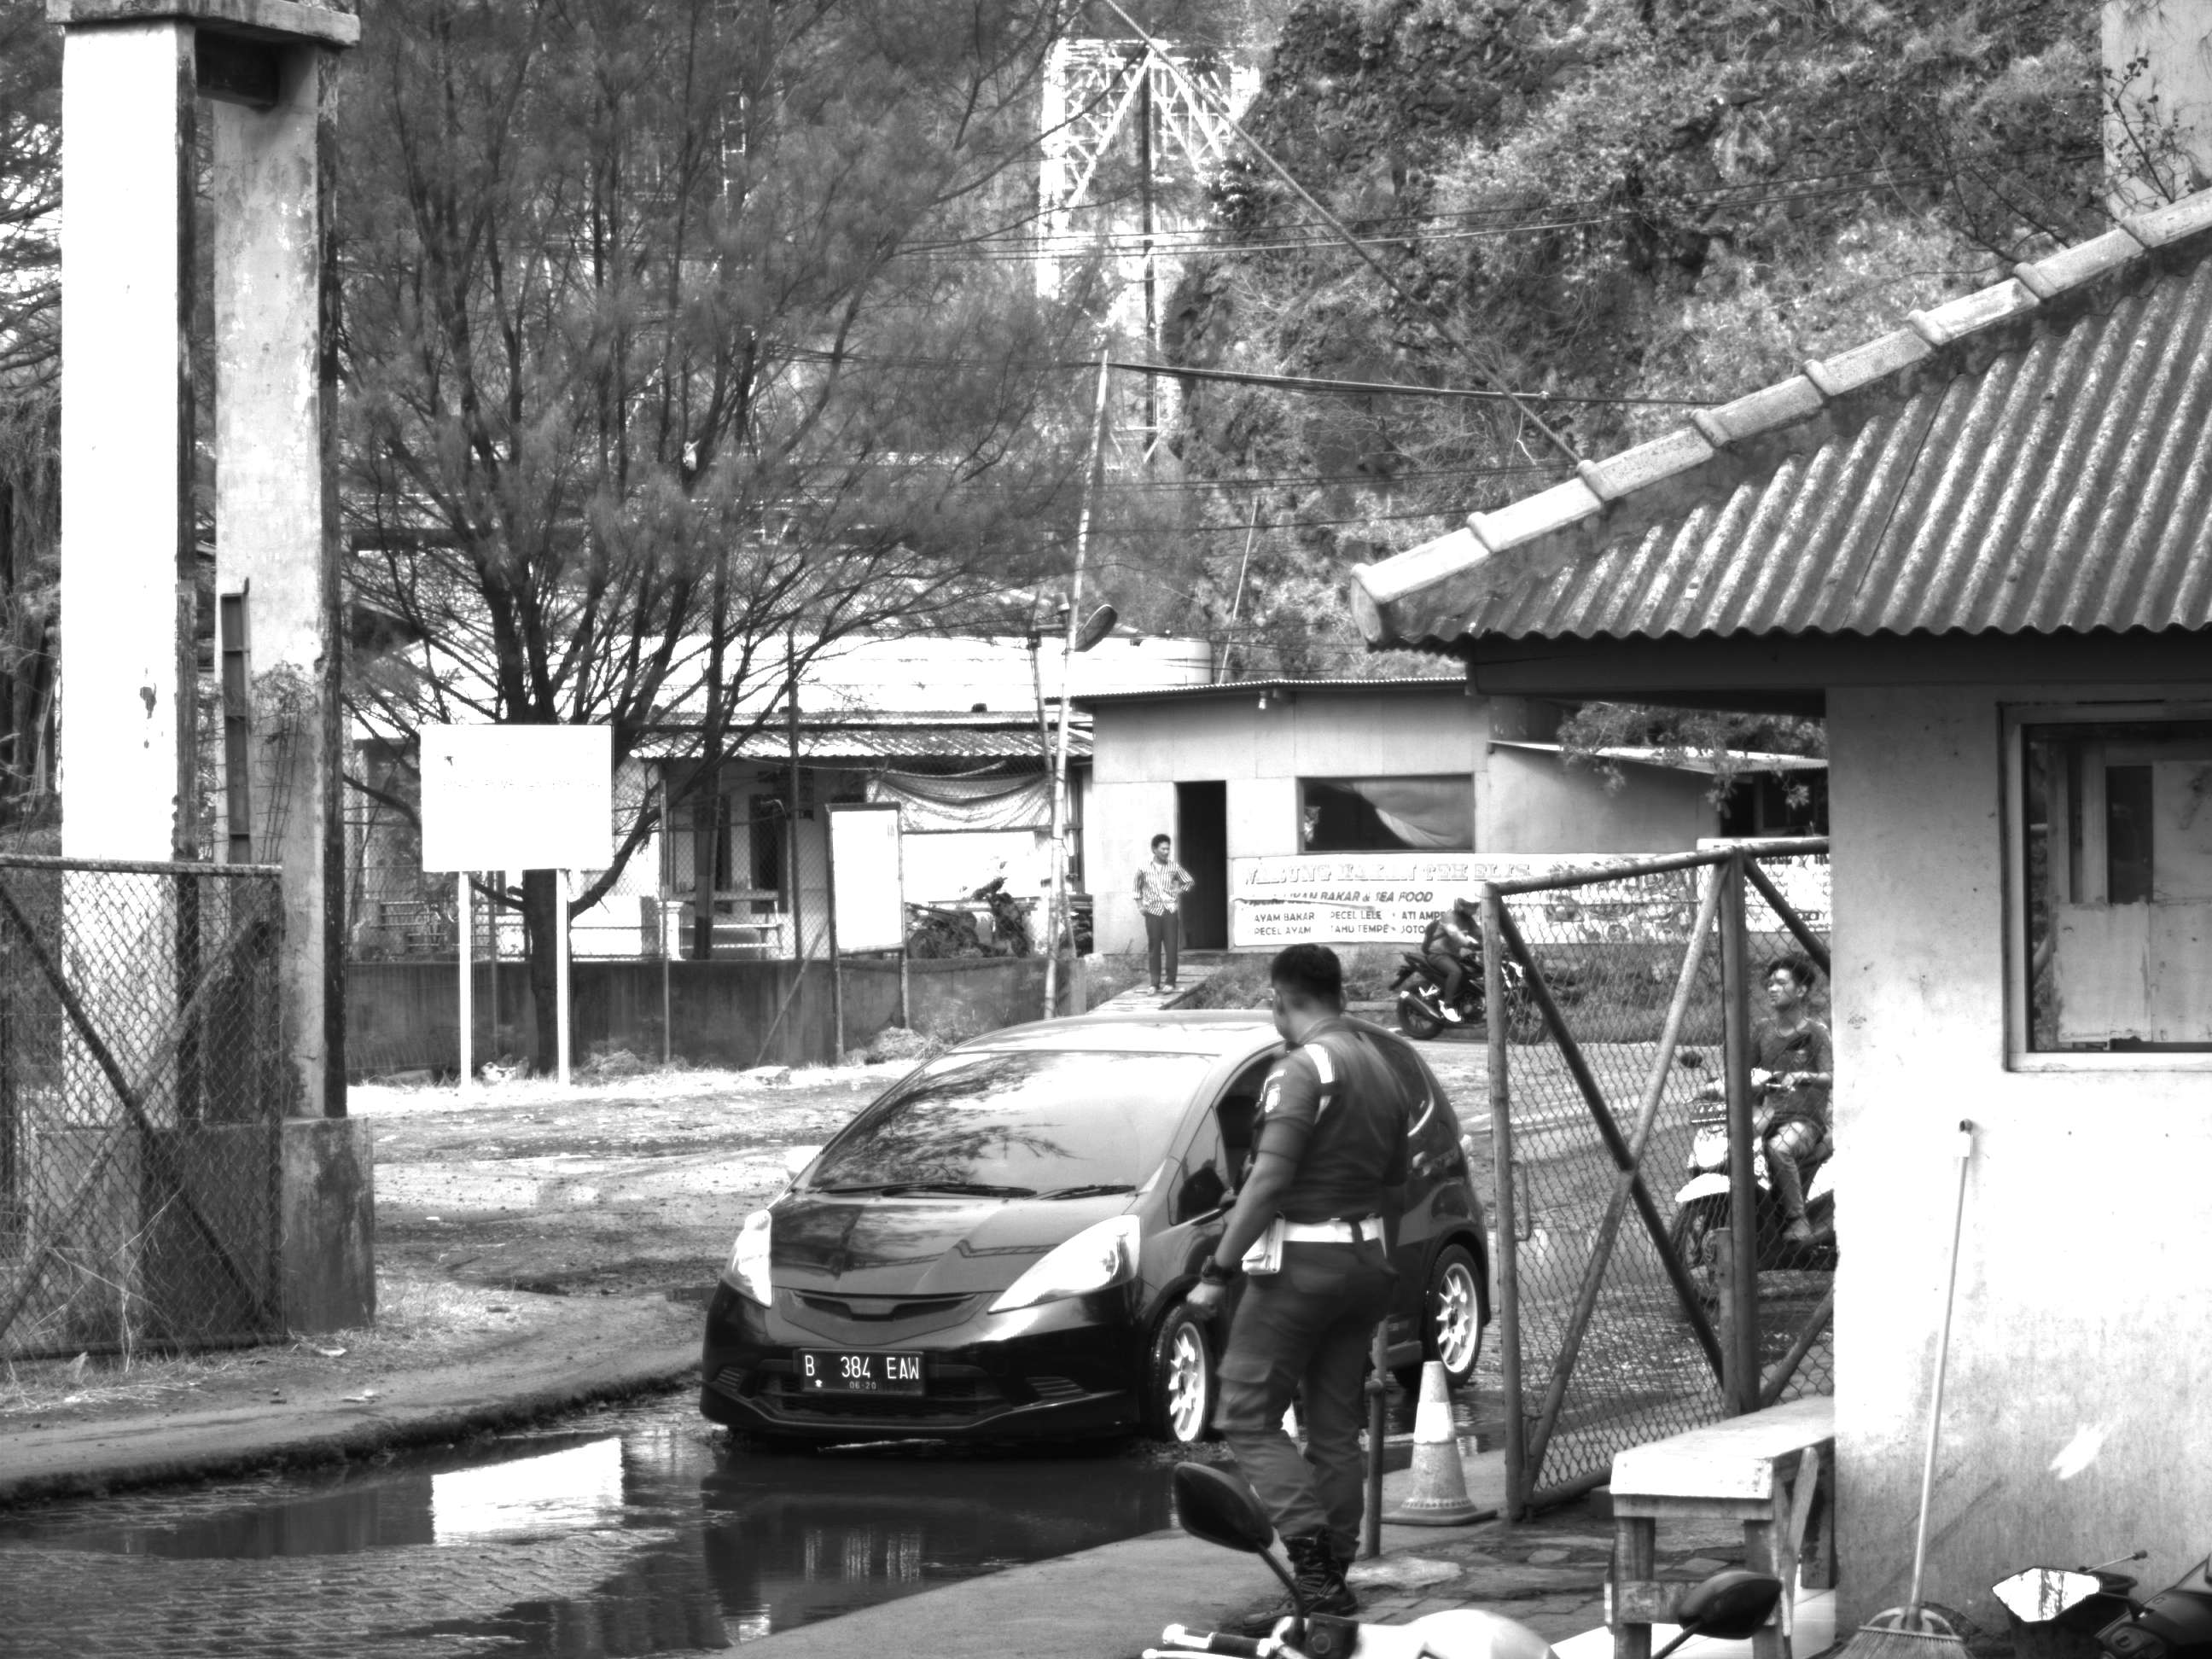day_small_front: (692, 1004, 1224, 1462)
plate: (797, 1346, 930, 1401)
